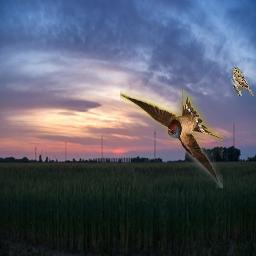Sparrow: (232, 68, 255, 97)
Swallow: (121, 86, 224, 188)
